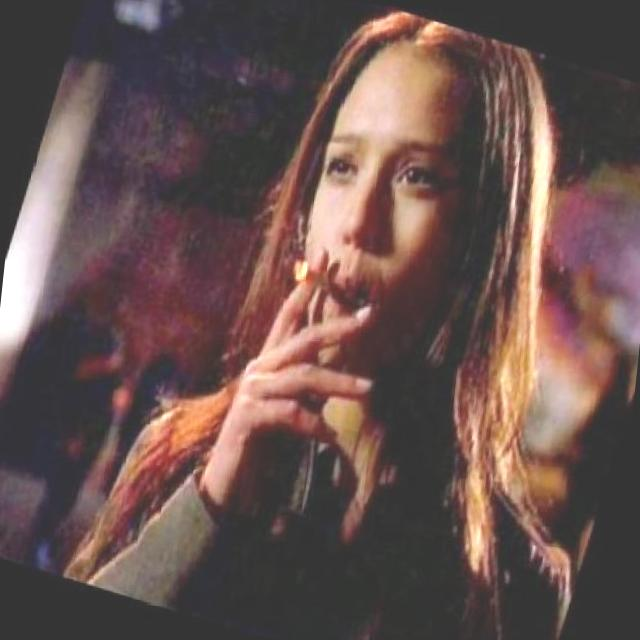cigarette: (286, 256, 338, 294)
